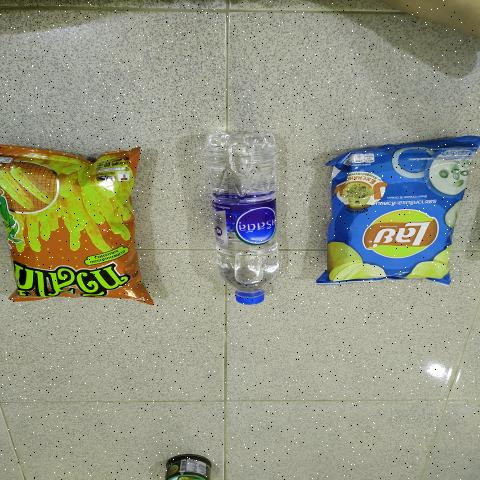crystal: (206, 139, 283, 307)
lay_blue: (337, 153, 451, 276)
twisco: (23, 167, 118, 293)
